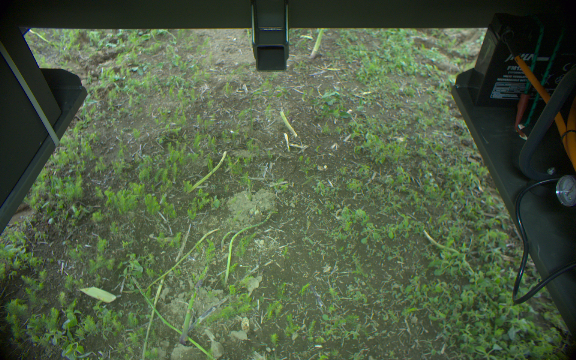aspa: (181, 261, 210, 340), (190, 148, 229, 191), (309, 28, 326, 59), (280, 110, 297, 136)
